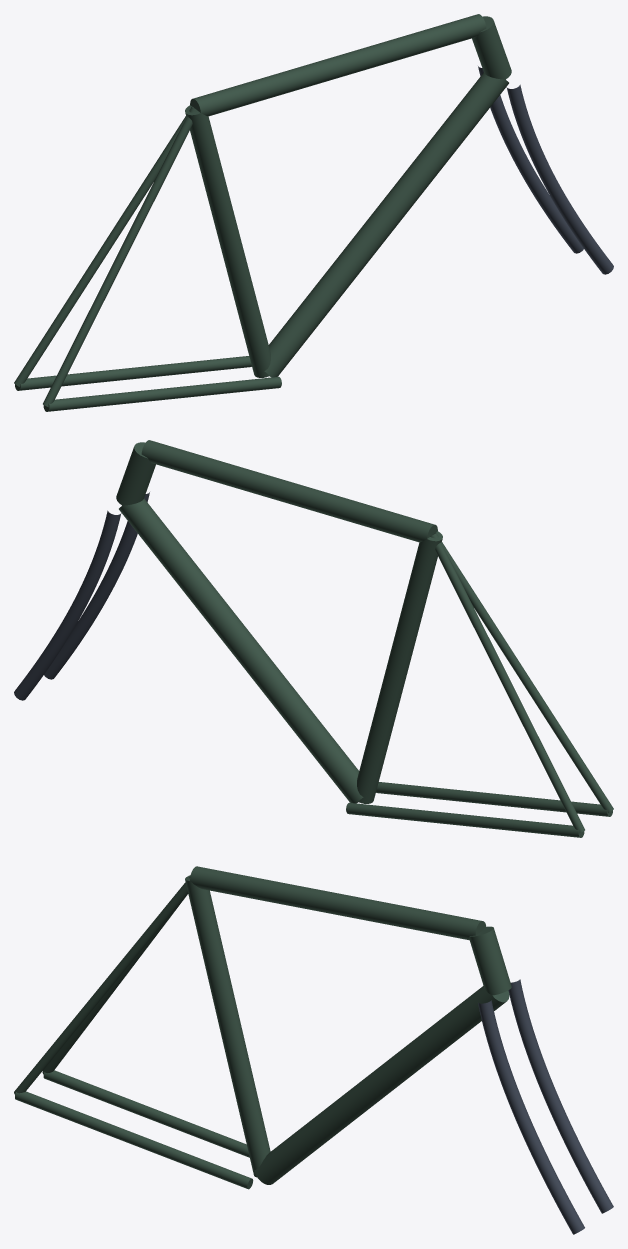
The model's file is skream-ranger-xs.glb.
The picture shows the model from 3 angles, top to bottom: view 1: azimuth 30°, elevation 25°; view 2: azimuth 150°, elevation 25°; view 3: azimuth 330°, elevation 25°; orthographic projection.
Parts seen in each view (by area): view 1: paint_down, paint_top, paint_seat, paint_seatstay_0.045, fork_0.045, paint_chainstay_0.045, paint_seatstay_-0.045, paint_chainstay_-0.045, fork_-0.045, paint_head; view 2: paint_down, paint_top, paint_seat, paint_seatstay_-0.045, fork_-0.045, paint_chainstay_-0.045, paint_seatstay_0.045, paint_chainstay_0.045, fork_0.045, paint_head; view 3: paint_down, paint_top, paint_seat, fork_0.045, fork_-0.045, paint_chainstay_0.045, paint_chainstay_-0.045, paint_seatstay_0.045, paint_head, paint_seatstay_-0.045.
Boxes of the visible parts, x1=… form: paint_down: x1=264, y1=72, x2=508, y2=377; paint_top: x1=190, y1=14, x2=486, y2=116; paint_seat: x1=185, y1=105, x2=270, y2=377; paint_seatstay_0.045: x1=43, y1=108, x2=197, y2=407; fork_0.045: x1=506, y1=84, x2=613, y2=274; paint_chainstay_0.045: x1=43, y1=376, x2=281, y2=411; paint_seatstay_-0.045: x1=14, y1=106, x2=194, y2=386; paint_chainstay_-0.045: x1=15, y1=356, x2=251, y2=390; fork_-0.045: x1=478, y1=66, x2=583, y2=253; paint_head: x1=472, y1=16, x2=511, y2=79; paint_down: x1=119, y1=498, x2=363, y2=803; paint_top: x1=141, y1=440, x2=437, y2=542; paint_seat: x1=357, y1=531, x2=442, y2=803; paint_seatstay_-0.045: x1=430, y1=534, x2=584, y2=833; fork_-0.045: x1=14, y1=510, x2=121, y2=700; paint_chainstay_-0.045: x1=346, y1=802, x2=584, y2=837; paint_seatstay_0.045: x1=433, y1=532, x2=613, y2=812; paint_chainstay_0.045: x1=376, y1=782, x2=612, y2=816; fork_0.045: x1=44, y1=492, x2=149, y2=679; paint_head: x1=116, y1=442, x2=155, y2=505; paint_down: x1=254, y1=986, x2=509, y2=1184; paint_top: x1=190, y1=866, x2=486, y2=940; paint_seat: x1=185, y1=875, x2=270, y2=1177; fork_0.045: x1=478, y1=1000, x2=584, y2=1234; fork_-0.045: x1=508, y1=979, x2=613, y2=1213; paint_chainstay_0.045: x1=15, y1=1091, x2=253, y2=1189; paint_chainstay_-0.045: x1=43, y1=1070, x2=249, y2=1157; paint_seatstay_0.045: x1=14, y1=876, x2=190, y2=1094; paint_head: x1=469, y1=926, x2=511, y2=995; paint_seatstay_-0.045: x1=42, y1=893, x2=188, y2=1074.
Bounding box in the file's own units: 1.03 × 0.542 × 0.112.
